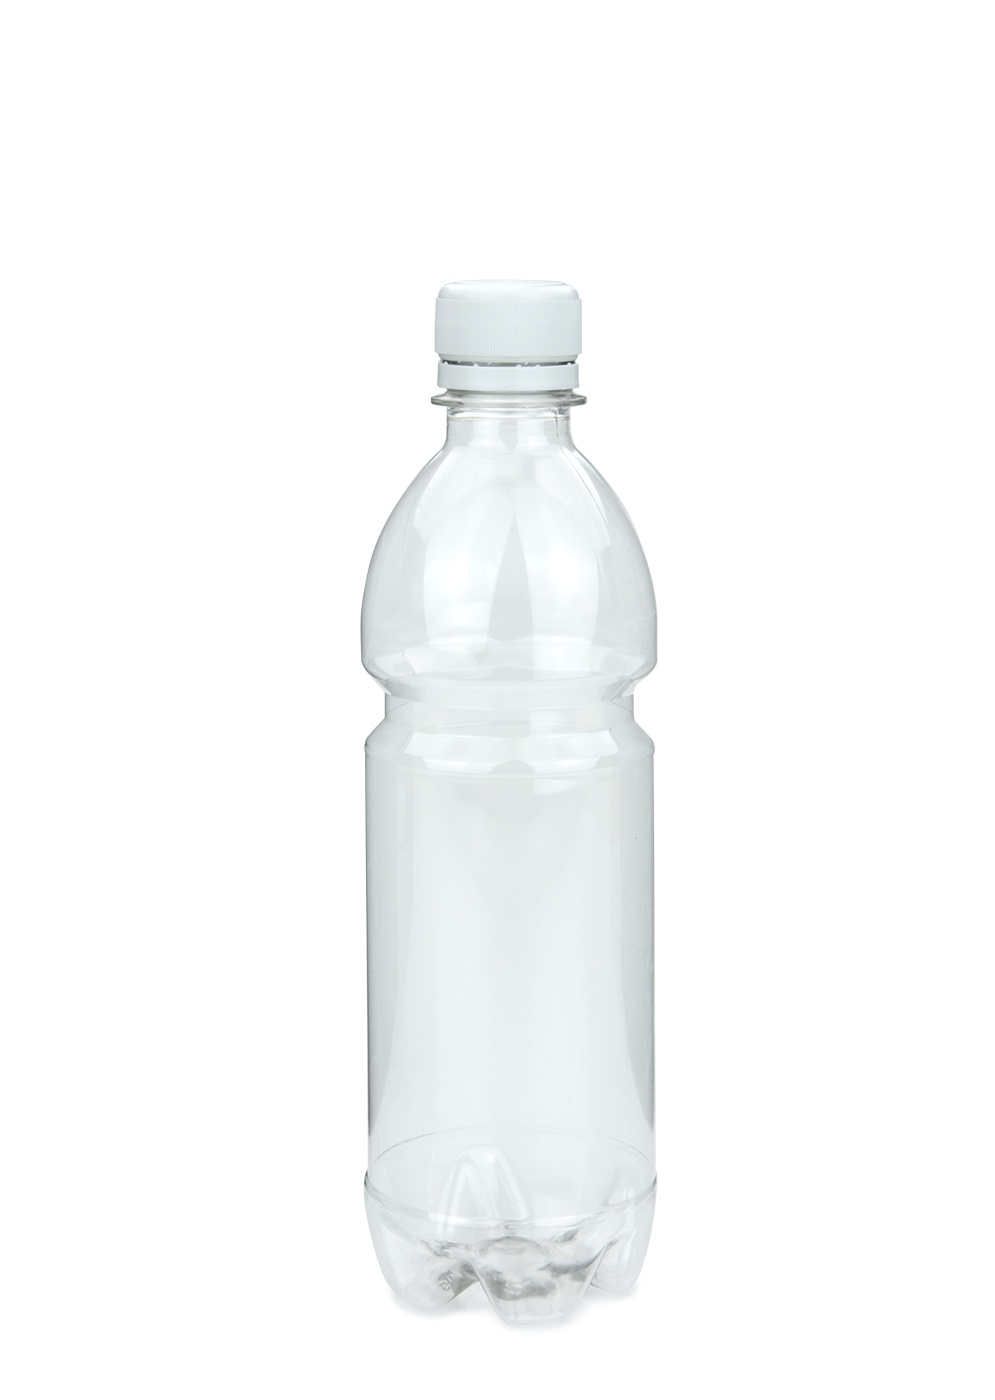emptybottle: (362, 280, 656, 1327)
